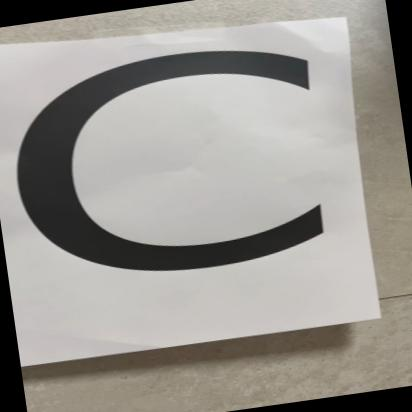seat: (0, 0, 398, 371)
